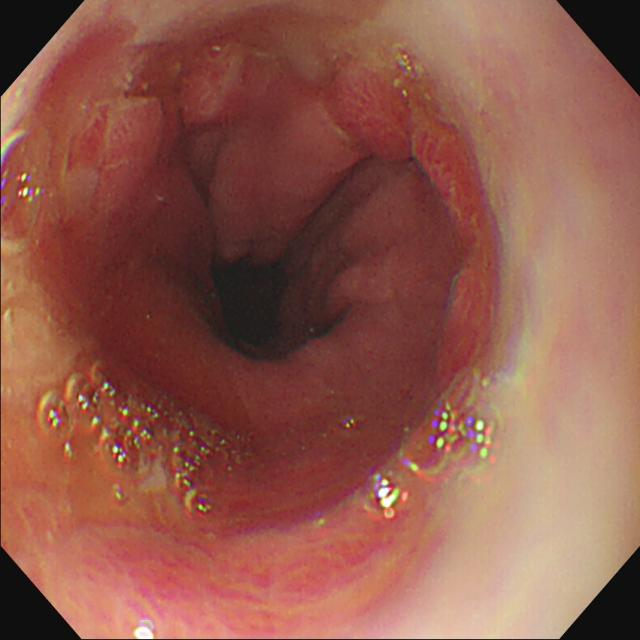A: (73, 85, 167, 215), (327, 69, 422, 176), (409, 118, 493, 239), (177, 46, 250, 130)
E: (212, 263, 288, 341)
T: (40, 363, 243, 520), (362, 389, 500, 520)
U: (430, 402, 499, 464), (2, 128, 31, 204), (374, 474, 411, 520)
